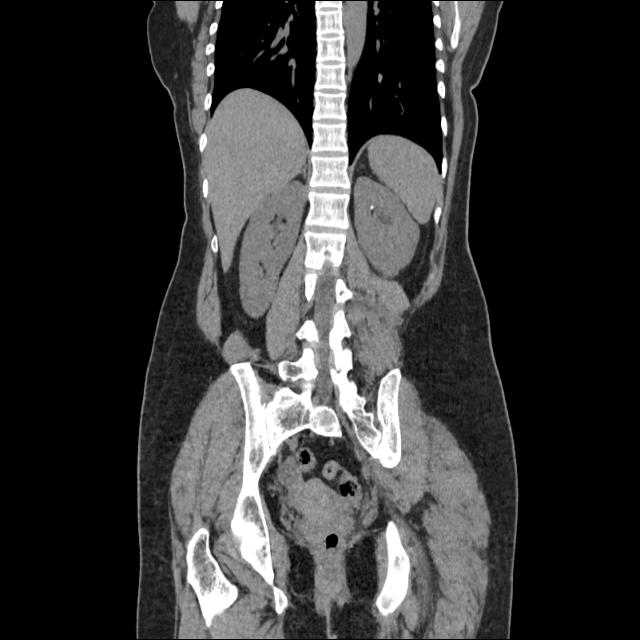kidney: (235, 179, 311, 323), (352, 175, 422, 282)
stone: (369, 202, 375, 212)
